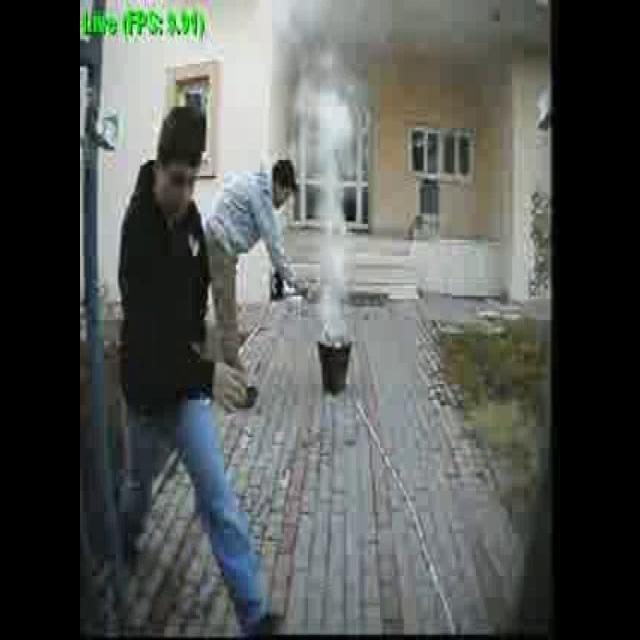Smoke: (288, 1, 379, 347)
